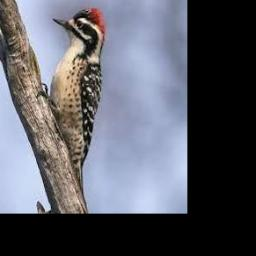Woodpecker: (37, 8, 107, 192)
